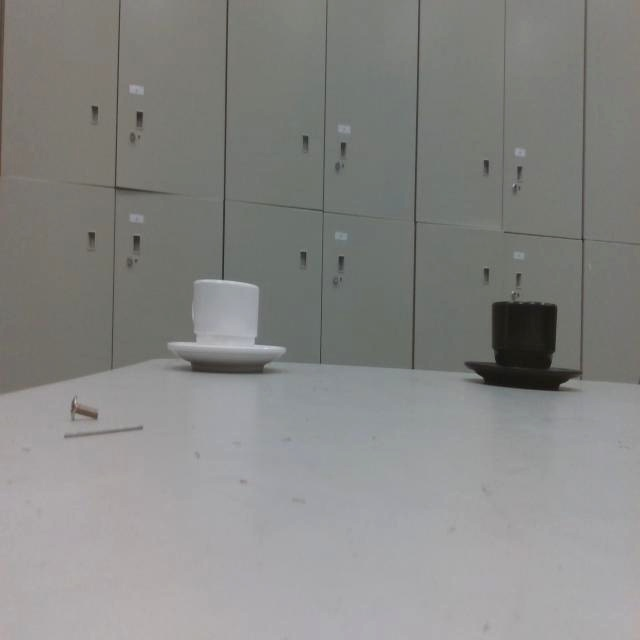black: (465, 299, 583, 393)
white: (166, 277, 288, 374)
